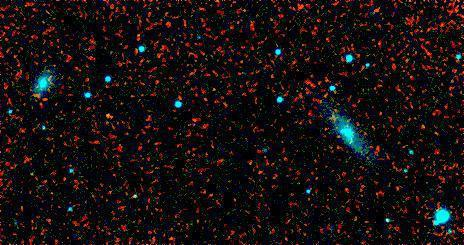star: (92, 98, 122, 128)
